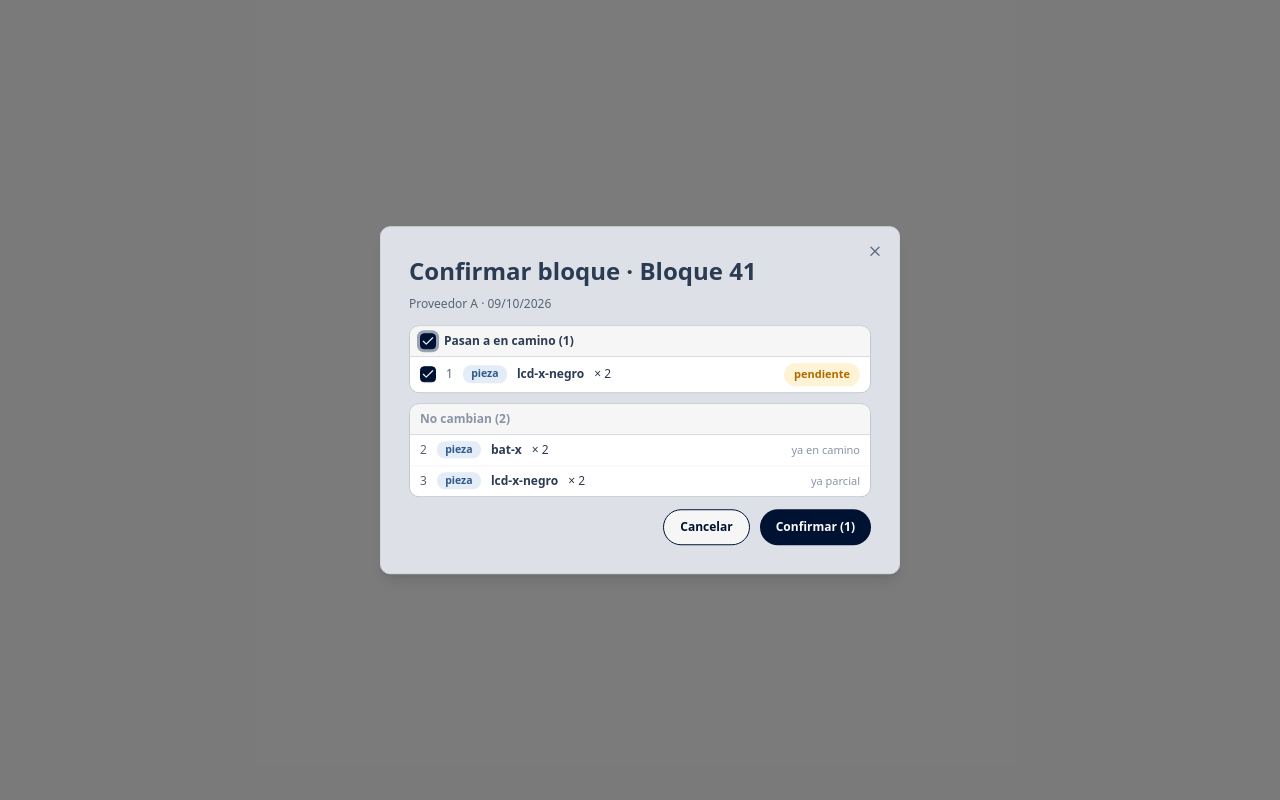
Test: AccionBloqueDialog (spec §6.5) › un 409 cierra y avisa como «Advertencia»
The width and height of the screenshot is (1280, 800).
Step 1. Click the button "Confirmar (1)" → {"x": 815, "y": 527}, box [760, 509, 871, 545]
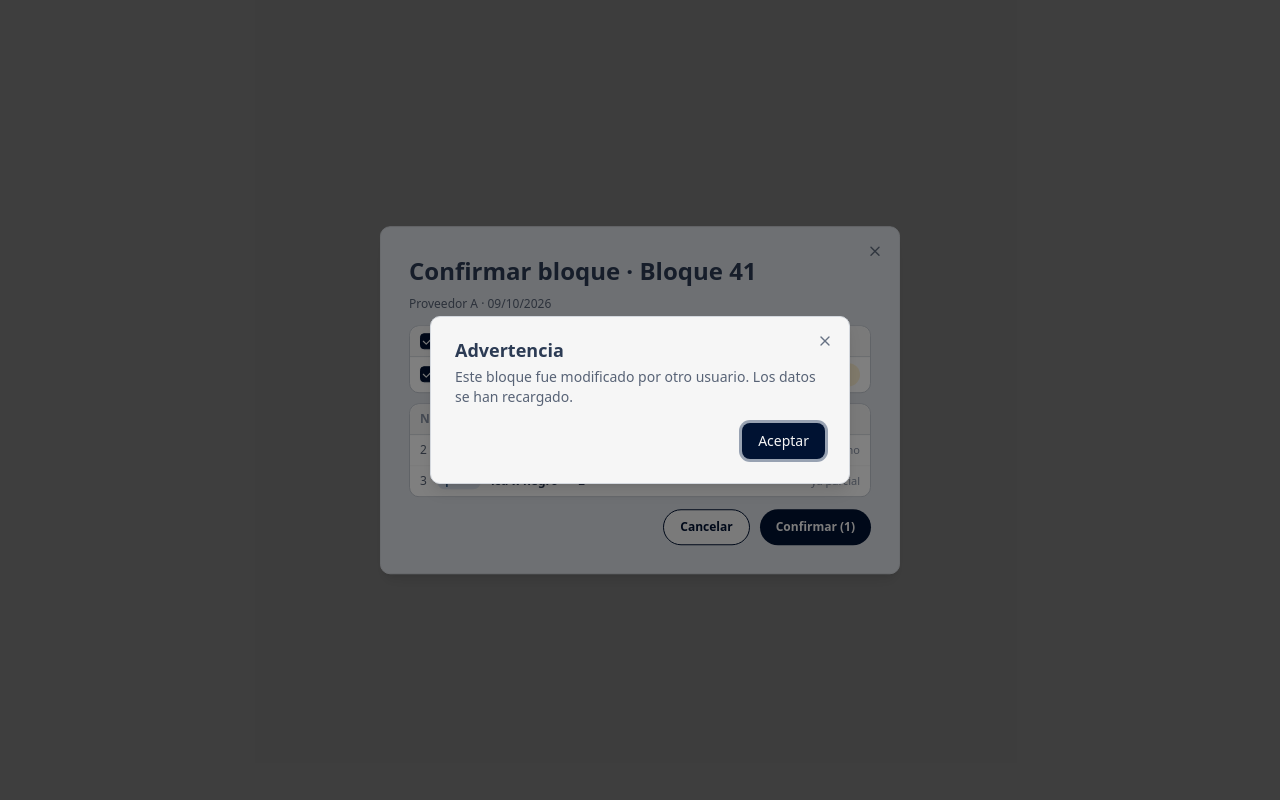
Expected: the text "Este bloque fue modificado por otro usuario. Los datos se han recargado." is shown, [455, 367, 825, 407]
